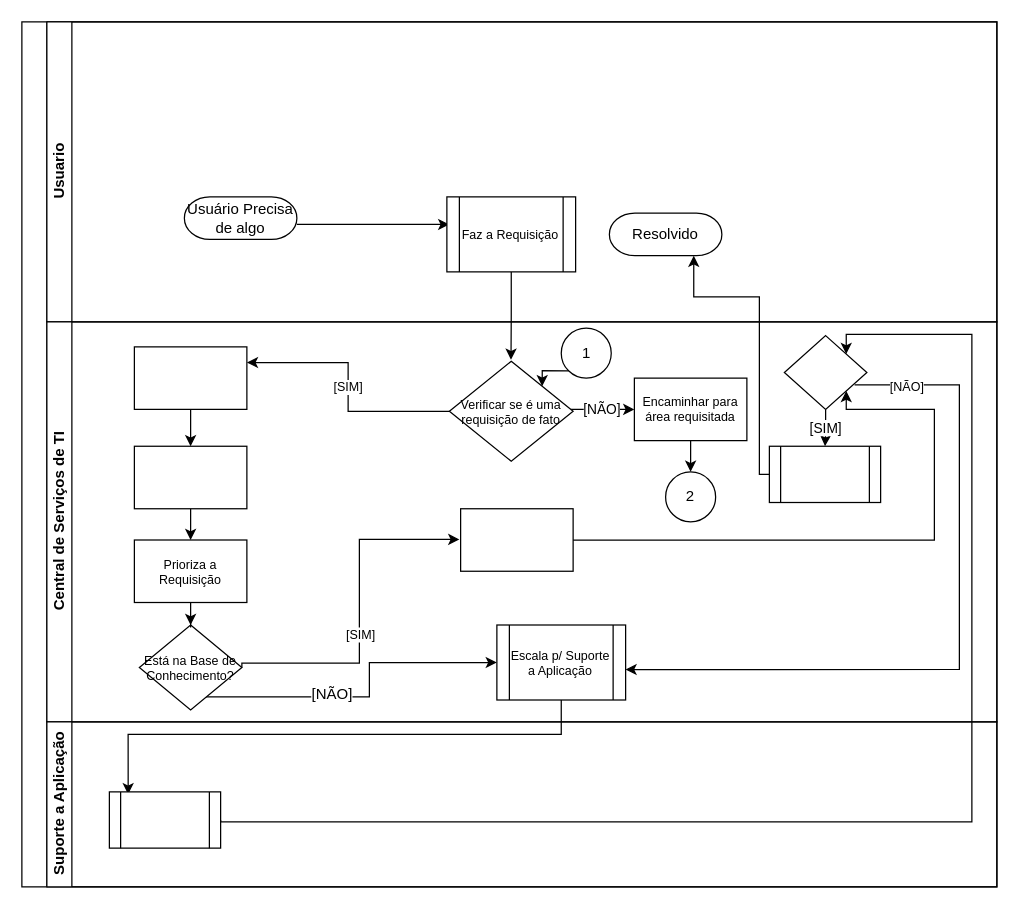
Some shapes in this 1019 by 909 pixel diagram are drawn without their labels. The centre of each missing label's shape, as x and y in pixels:
"Atualiza a Base de Conhecimento" belongs at [824,473].
"Categoriza a Requisição" belongs at [190,477].
"Foi atendido conforme esperado?" belongs at [825,371].
"Investiga e Resolve" belongs at [164,819].
"Registrar a Requisição" belongs at [190,377].
"Resolve" belongs at [516,539].
